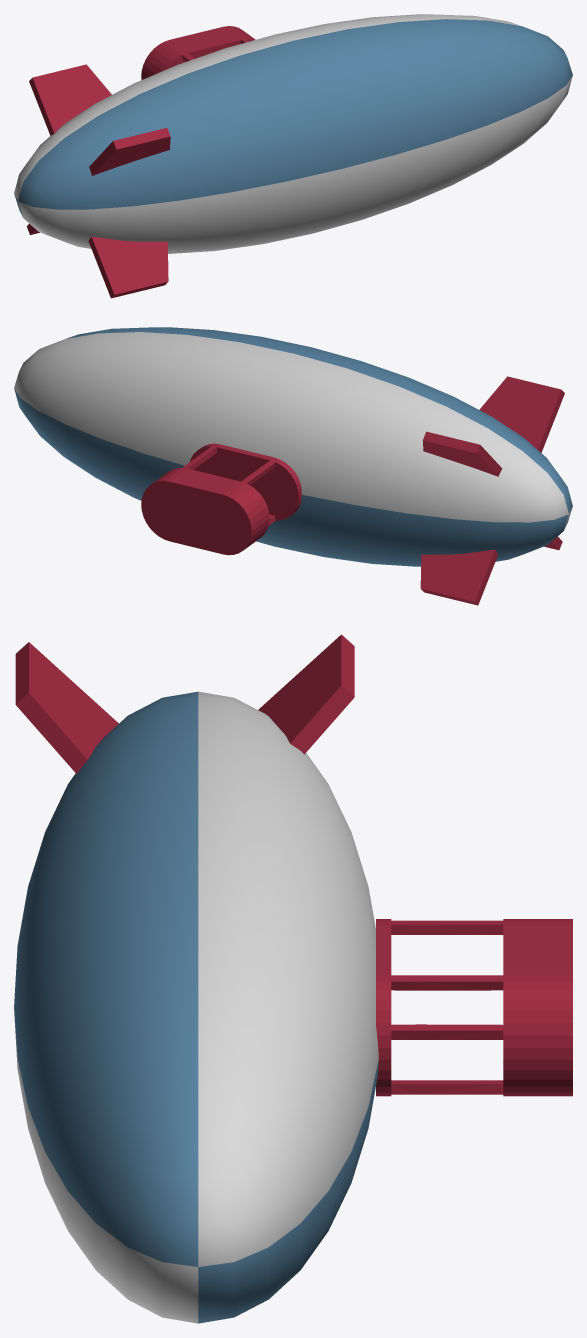
Rendered from blimp.dae.
3 renders of one model, top to bottom at view 1: azimuth 30°, elevation 25°; view 2: azimuth 150°, elevation 25°; view 3: azimuth 270°, elevation 25°, orthographic. The views are drawn at different scales.
Visible parts, largest first — view 1: Blimp_Body, Fin, Circle; view 2: Blimp_Body, Circle, Fin; view 3: Blimp_Body, Circle, Fin.
Boxes of the visible parts, bbox=[...] form: Blimp_Body: bbox=[14, 14, 572, 253]; Fin: bbox=[26, 64, 170, 298]; Circle: bbox=[141, 26, 255, 79]; Blimp_Body: bbox=[14, 327, 572, 566]; Circle: bbox=[141, 443, 301, 555]; Fin: bbox=[420, 376, 564, 605]; Blimp_Body: bbox=[14, 691, 378, 1323]; Circle: bbox=[376, 919, 572, 1096]; Fin: bbox=[15, 634, 354, 773].
Size of the model in its own units: 8.15 by 3.71 by 2.64.
